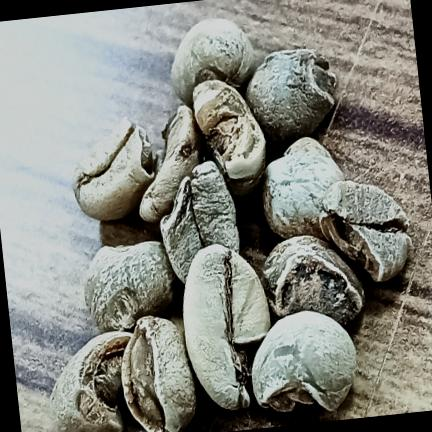broken: (184, 244, 270, 410), (252, 311, 356, 411), (161, 161, 240, 283), (262, 235, 365, 326), (320, 181, 411, 282), (122, 316, 197, 432), (73, 118, 157, 220), (85, 241, 178, 333), (246, 49, 336, 144), (193, 80, 266, 197), (262, 137, 344, 238), (52, 332, 132, 432), (140, 105, 203, 223), (172, 19, 256, 106), (161, 177, 202, 283), (323, 181, 408, 231)
